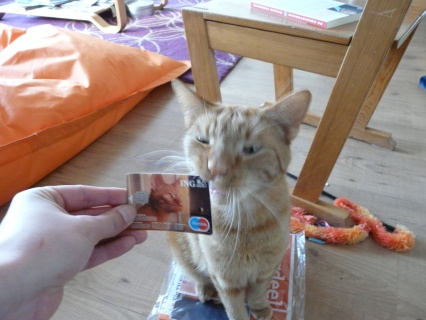Cat: (130, 76, 312, 319)
